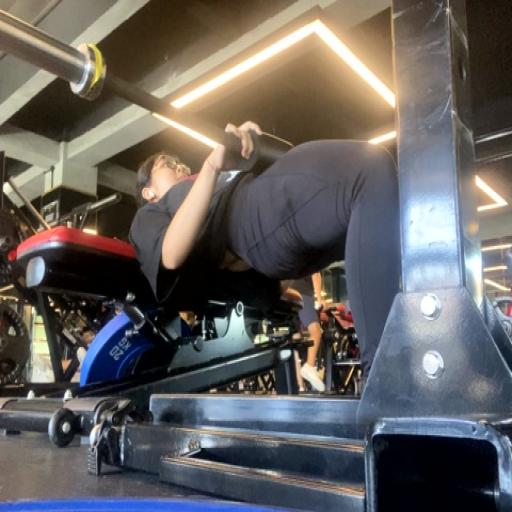exercise: (127, 118, 402, 393)
